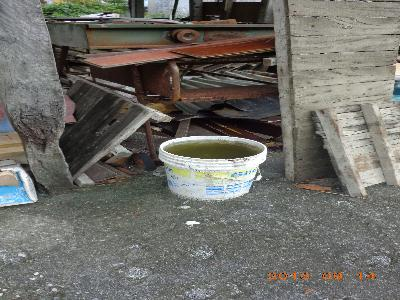bucket: (157, 134, 269, 203)
